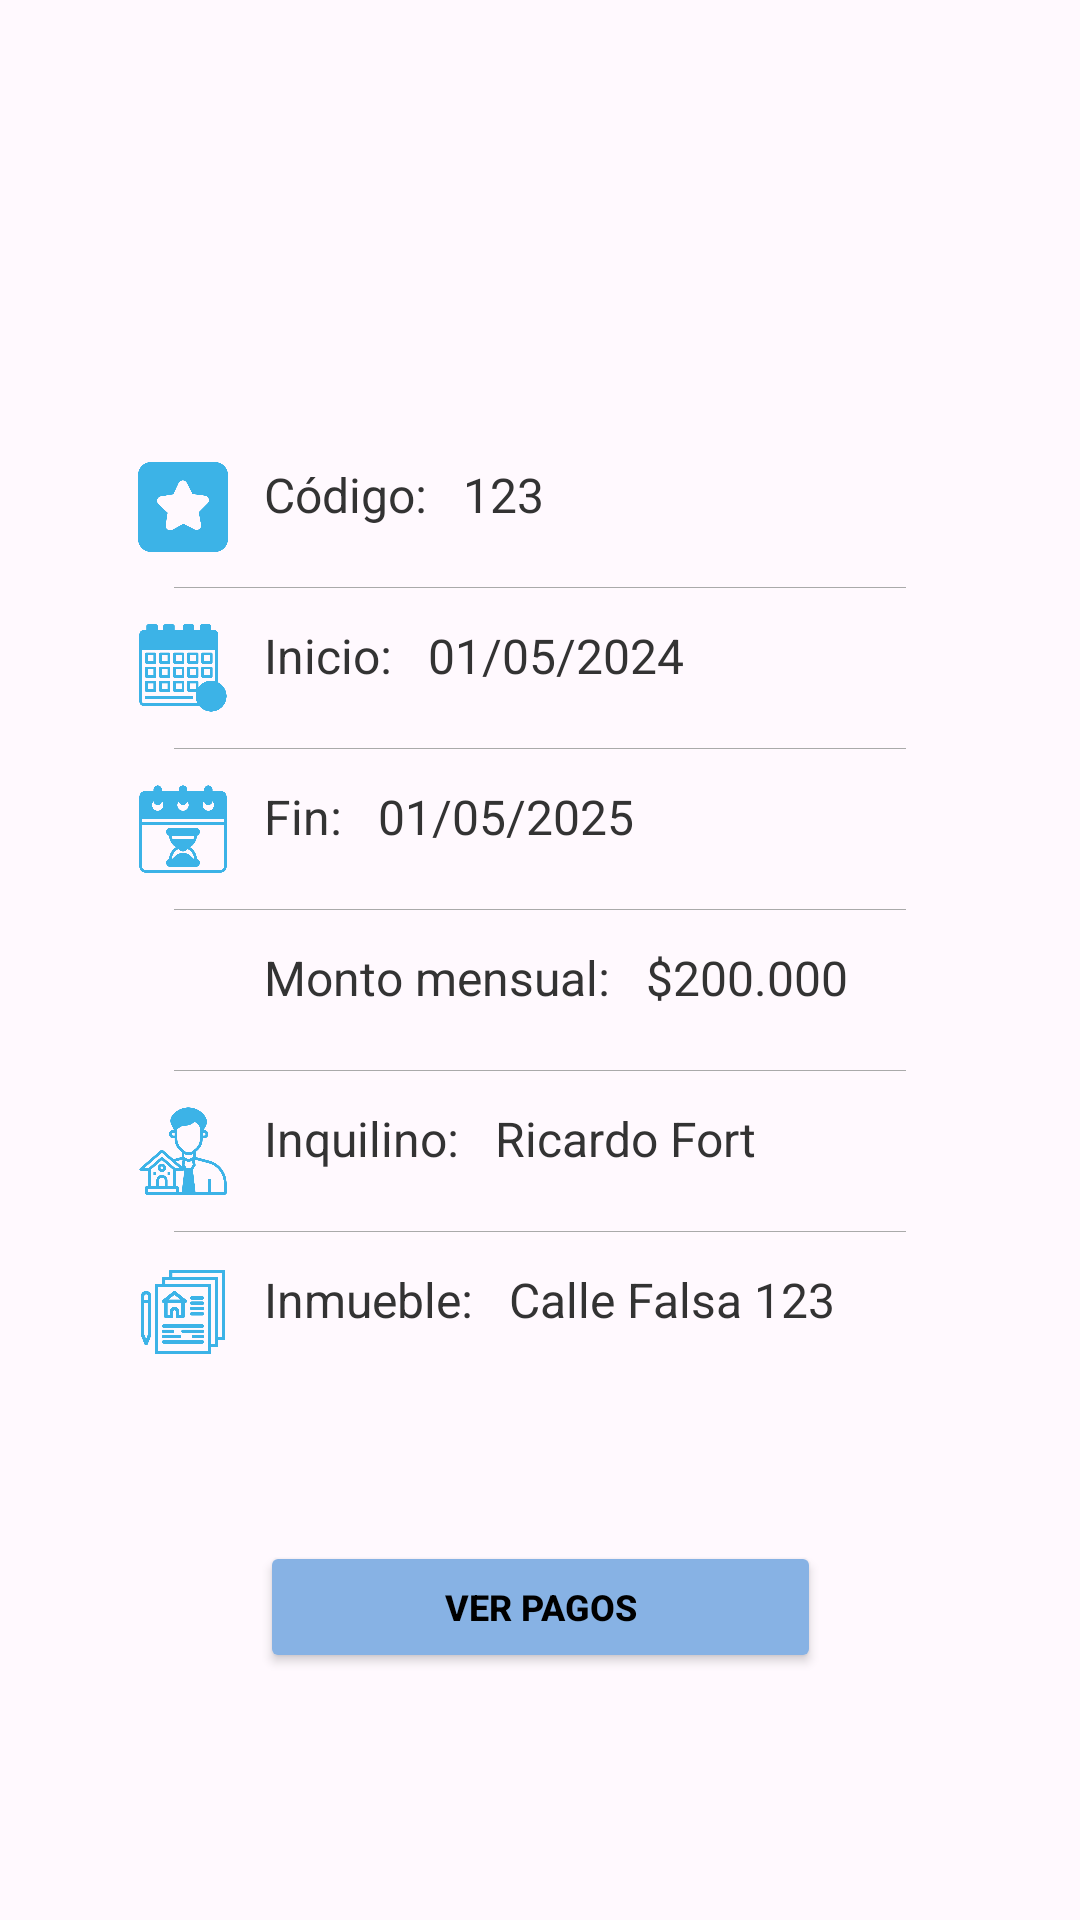

Named icons in this screenshot (1080×1920) and their bounding boxes, (x1, y1, x2, y2):
calendar: (139, 624, 227, 712)
deadline: (139, 785, 227, 873)
duenio: (139, 1107, 227, 1195)
